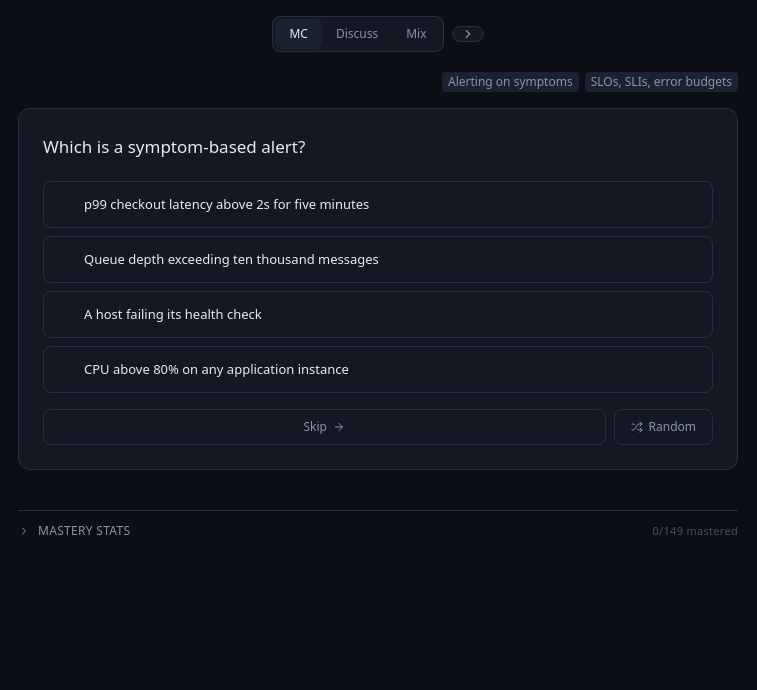
Test: DrillSession › keeps the mastery stats collapsed so the card has the page
Click the button "Mastery stats 0/149 mastered".
click(84, 531)  # box [18,523,738,539]
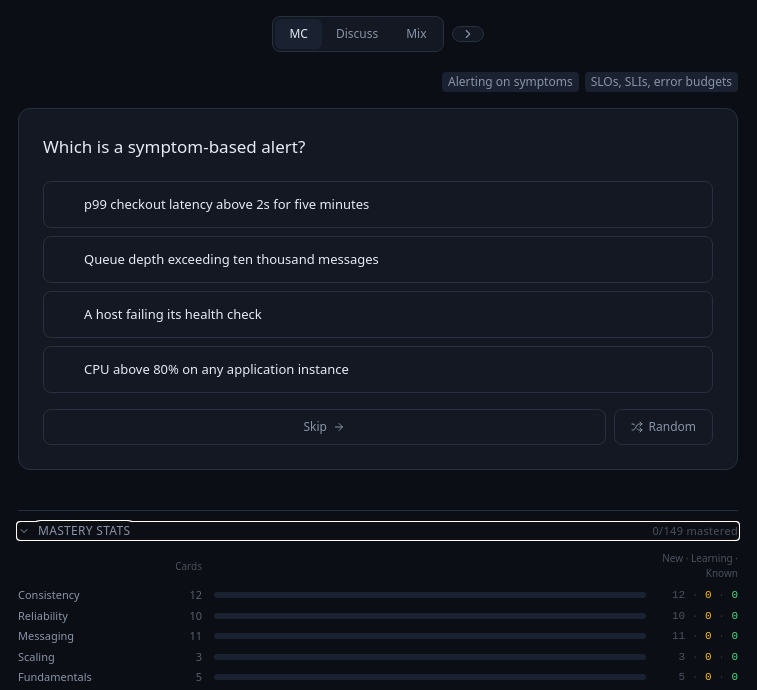
Expected: the button "Mastery stats 0/149 mastered" is expanded, [18,523,738,539]
